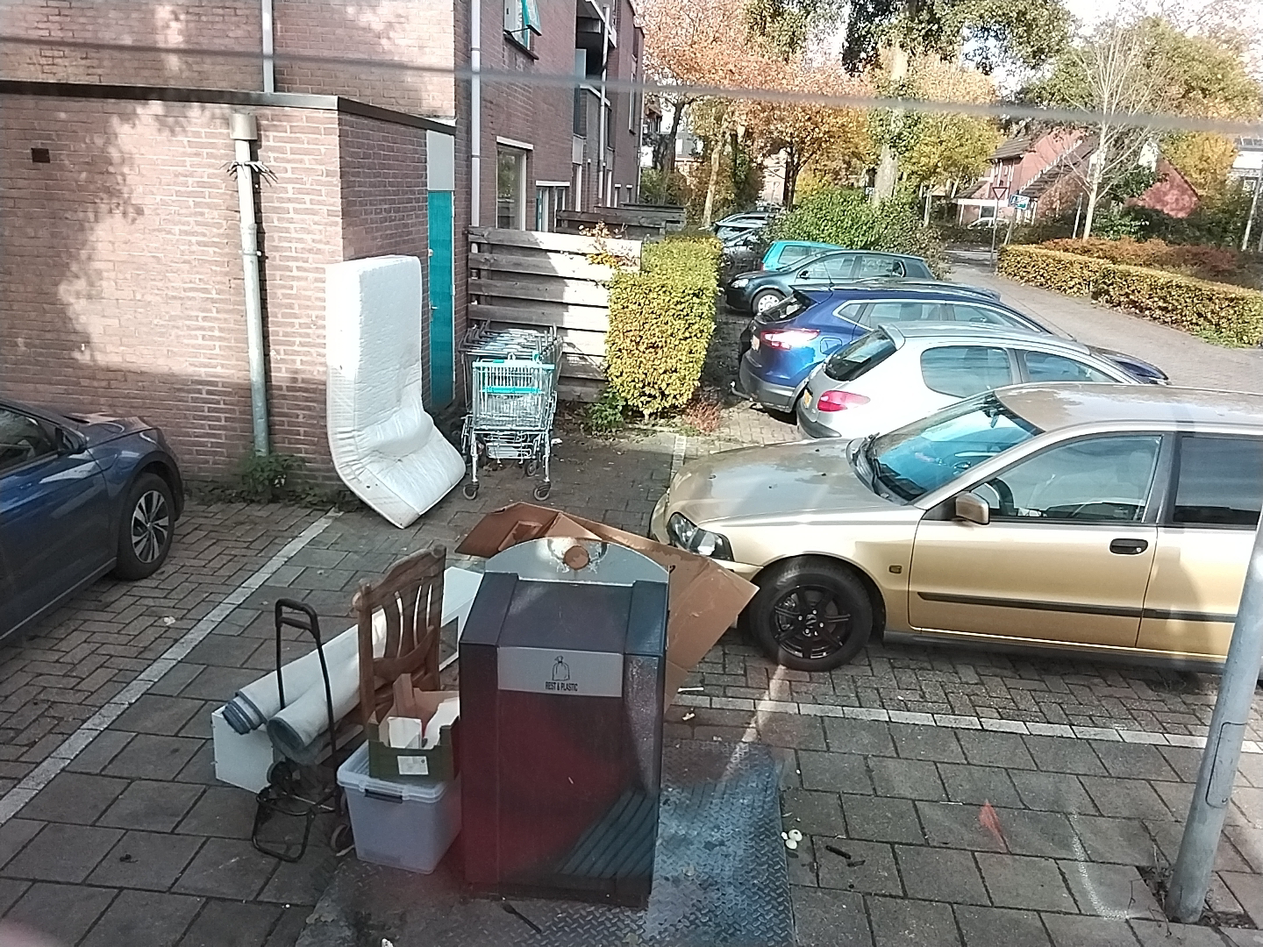Container: (472, 559, 727, 898)
Papier: (491, 502, 737, 593)
Rest: (337, 248, 489, 506), (383, 622, 494, 874), (235, 639, 362, 851), (373, 560, 469, 700)
Voertuig: (749, 413, 1263, 693), (781, 306, 1140, 442), (733, 251, 1005, 407), (1093, 767, 1263, 947), (770, 213, 925, 320)
